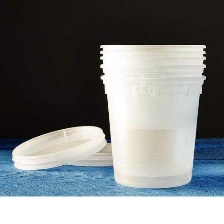plastic_box: (92, 37, 211, 194), (6, 120, 123, 175)
